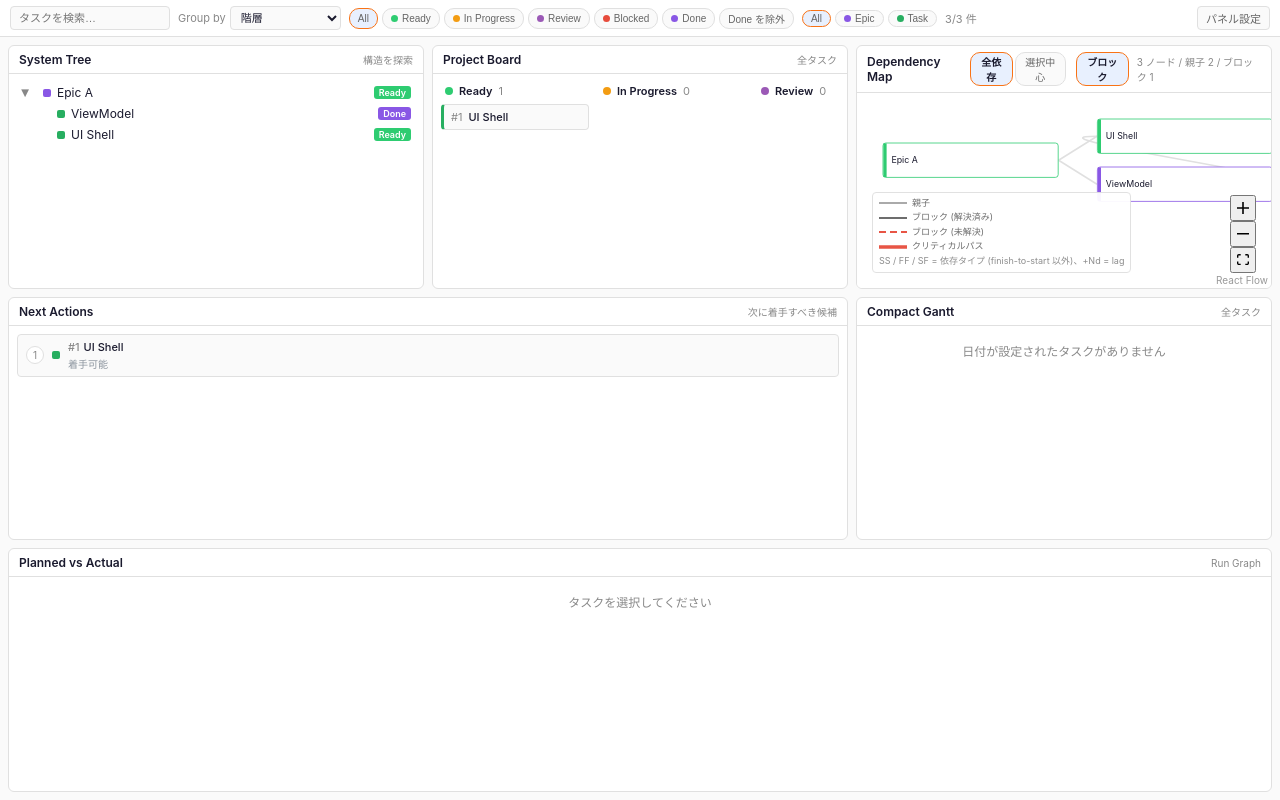
Test: [FR-VIS-028-AC1] 各パネルを個別に表示 / 非表示にでき、非表示パネルは描画されず残り領域が再配分される › Project Board の表示チェックを外すとパネルが描画されなくなる
Click the button with aria-label "パネル設定".
click(1234, 18)  # box [1197,6,1270,30]
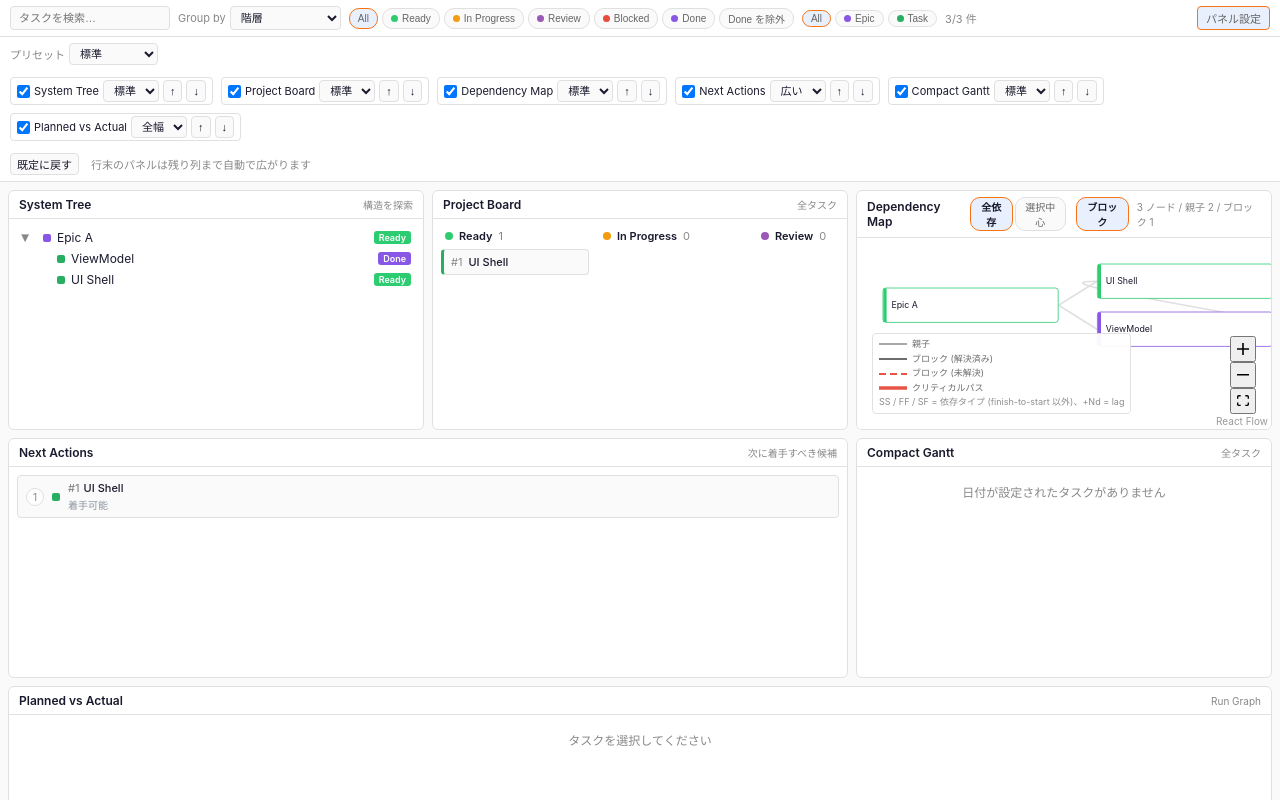
Click the checkbox named "Project Board を表示".
click(234, 91)  # box [228,84,241,98]
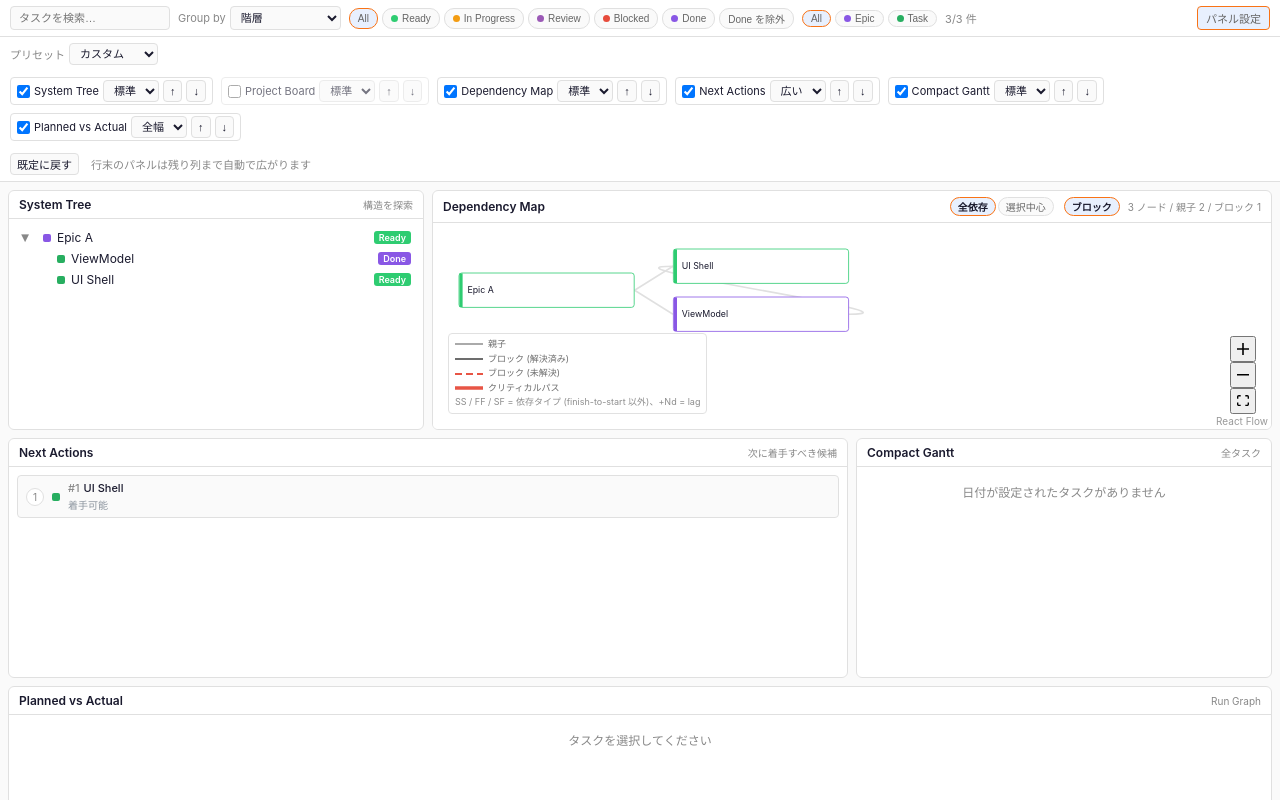
Click the checkbox named "Project Board を表示".
click(234, 91)  # box [228,84,241,98]
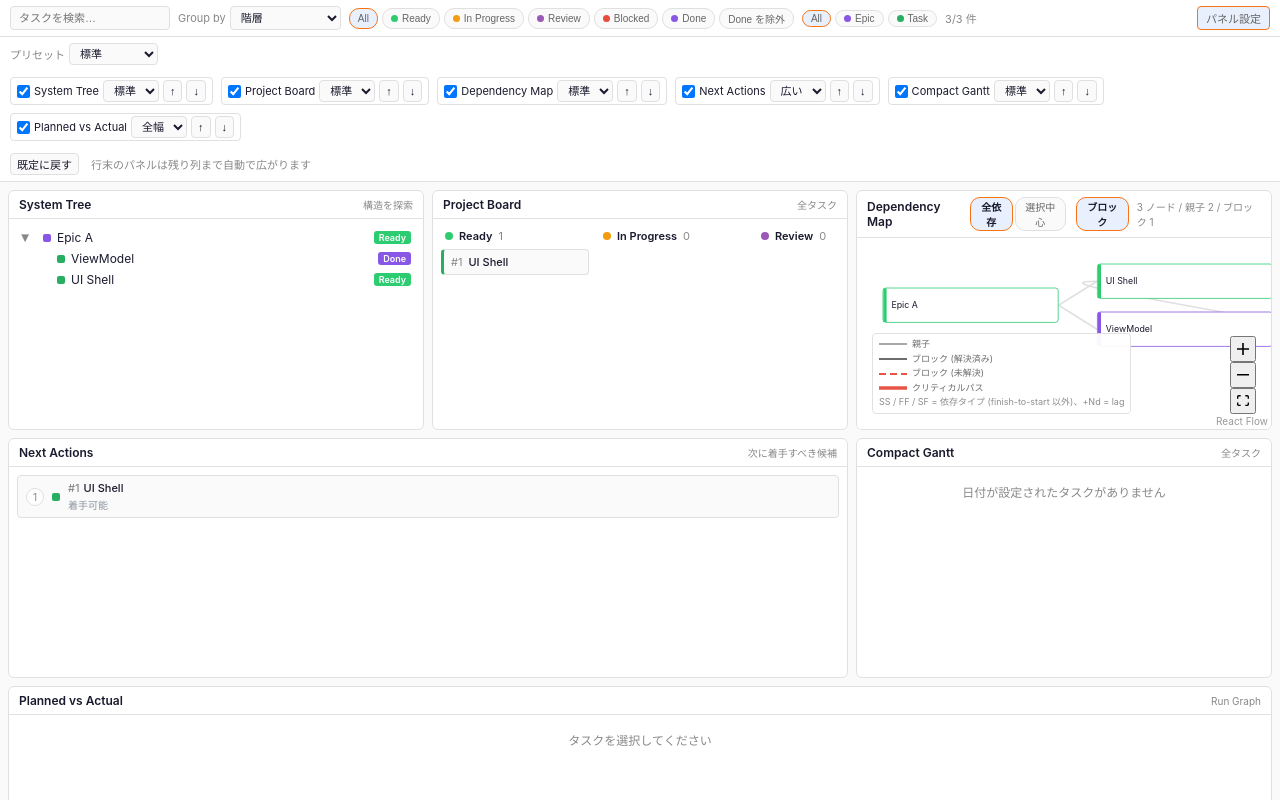
Check: the element named "Project Board" is shown, box [432,190,848,430]
